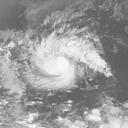cyclone: (23, 28, 113, 93)
